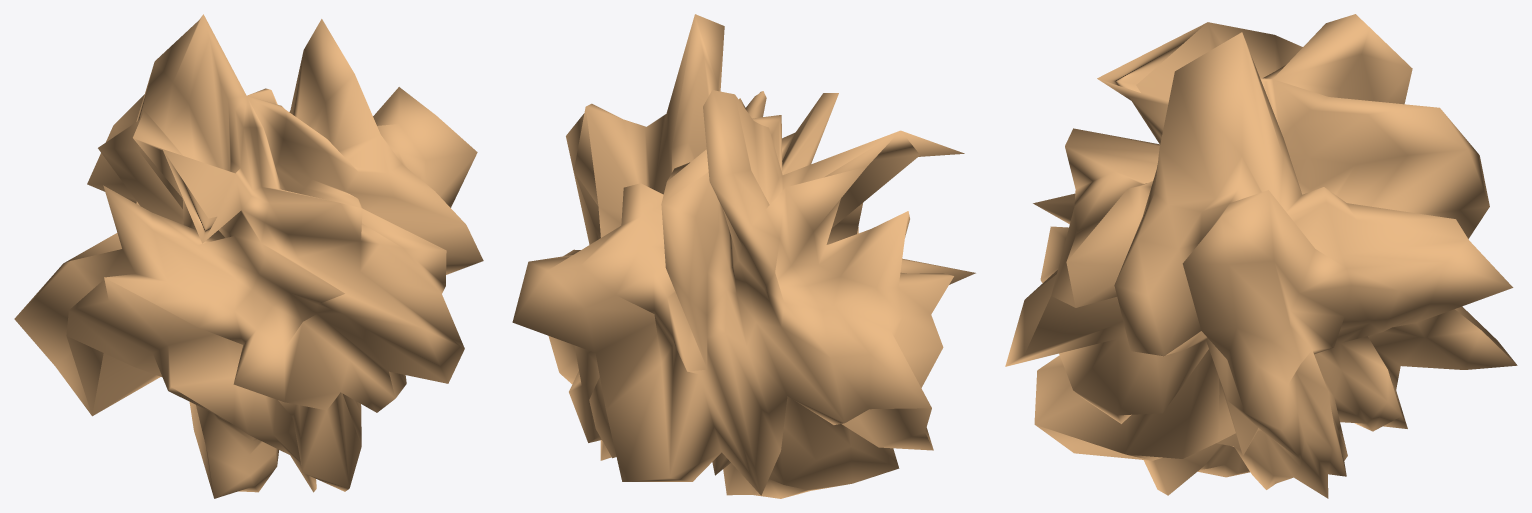
Rendered from Paper3.fbx.
3 renders of one model, left to right at view 1: azimuth 30°, elevation 25°; view 2: azimuth 150°, elevation 25°; view 3: azimuth 270°, elevation 25°, orthographic. The views are drawn at different scales.
Parts seen in each view (by area): view 1: Sphere.003; view 2: Sphere.003; view 3: Sphere.003.
Boxes of the visible parts, bbox=[...] form: Sphere.003: bbox=[14, 14, 483, 498]; Sphere.003: bbox=[512, 14, 975, 498]; Sphere.003: bbox=[1005, 14, 1517, 498].
Size of the model in its own units: 99.45 by 106 by 101.
